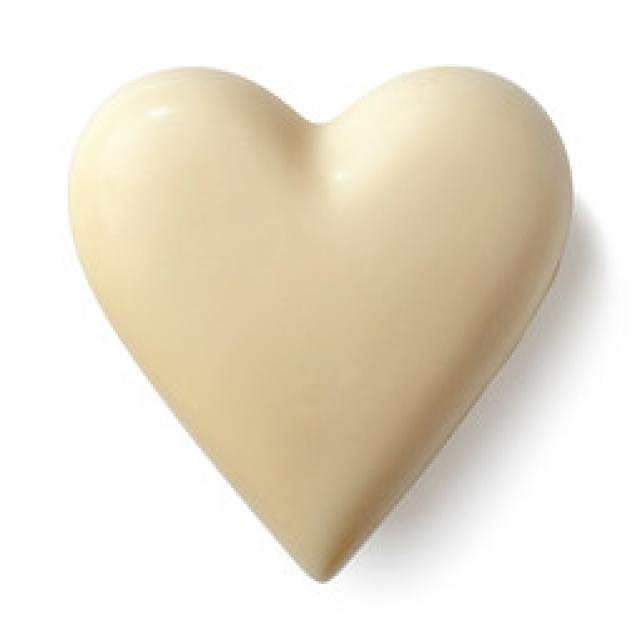Chocolate: (65, 58, 574, 584)
